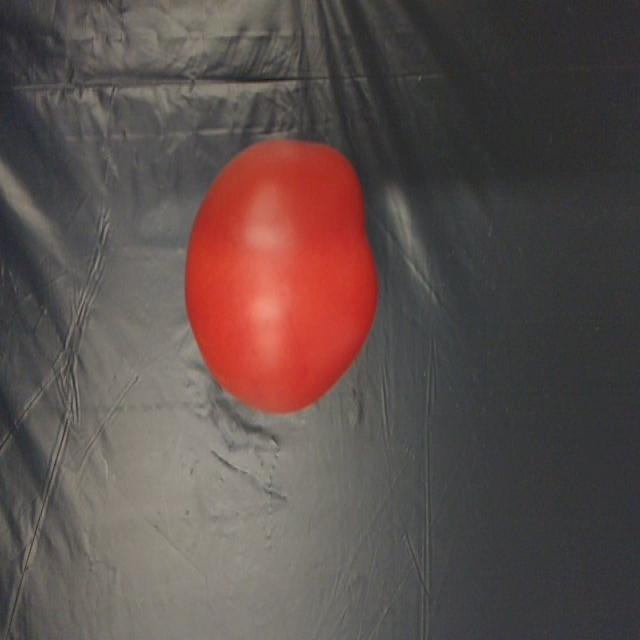kirmizi: (190, 130, 384, 430)
